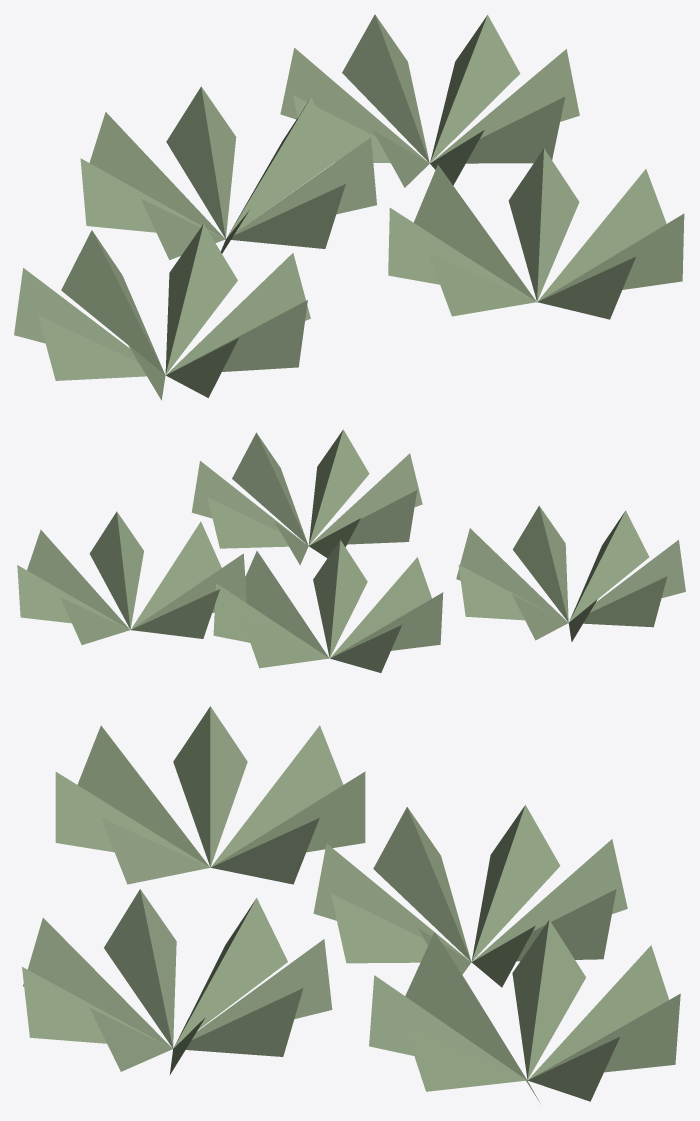
File: fern-patch.glb
3 renders of one model, top to bottom at view 1: azimuth 30°, elevation 25°; view 2: azimuth 150°, elevation 25°; view 3: azimuth 270°, elevation 25°, orthographic. The views are drawn at different scales.
Size of the model in its own units: 4.38 by 0.57 by 3.6.
